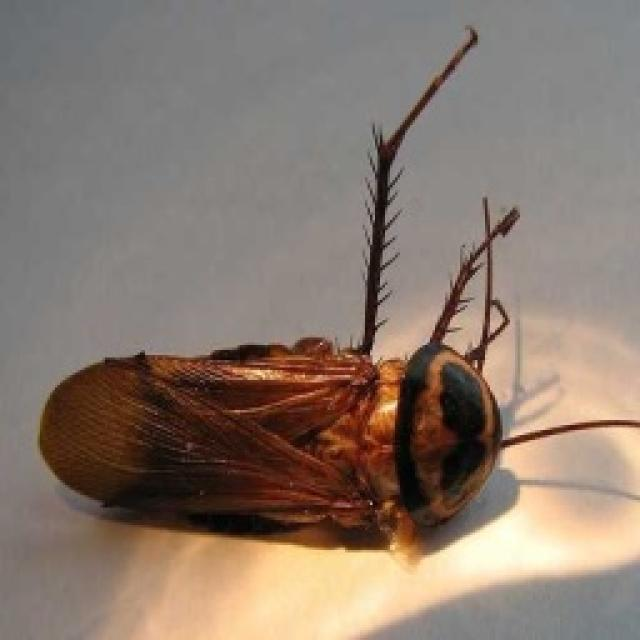cockroach: (0, 87, 603, 631)
